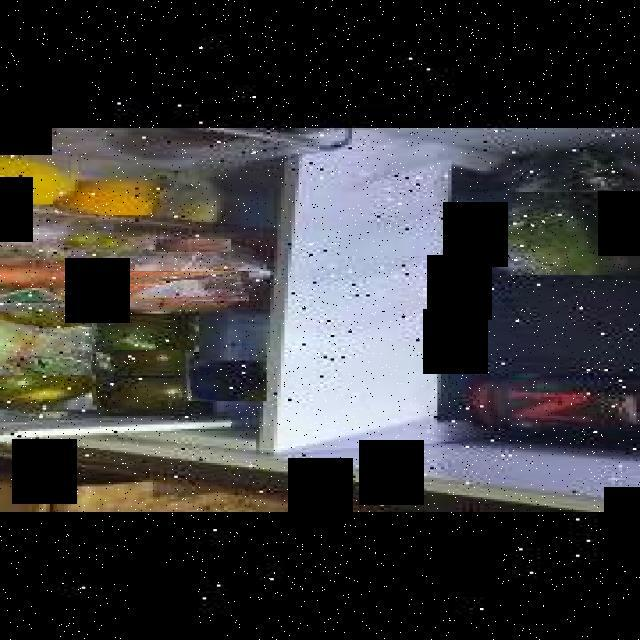carrot: (87, 272, 244, 302), (46, 290, 231, 307), (0, 262, 114, 288), (153, 239, 227, 252)
lemon: (0, 153, 71, 204), (53, 182, 153, 216)
salad: (451, 192, 640, 275), (0, 311, 92, 375)
tomato: (94, 378, 208, 416), (0, 362, 92, 409), (87, 314, 194, 352), (181, 361, 263, 401), (101, 350, 194, 375), (0, 382, 43, 416)
